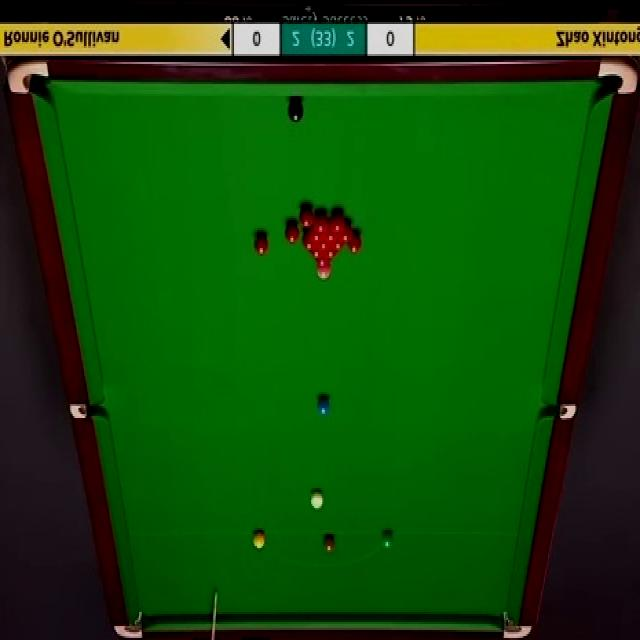black-ball: (288, 98, 304, 126)
blue-ball: (316, 393, 330, 418)
brown-ball: (322, 534, 334, 552)
green-ball: (382, 530, 393, 550)
pink-ball: (317, 267, 332, 279)
red-ball: (252, 230, 270, 255), (283, 219, 300, 245), (298, 203, 314, 228), (339, 221, 355, 243), (308, 223, 324, 244), (348, 230, 362, 254), (331, 213, 347, 234), (324, 223, 339, 243), (314, 210, 327, 233), (322, 246, 340, 258), (302, 239, 316, 251), (316, 258, 332, 268), (315, 241, 330, 251), (331, 241, 345, 250), (309, 250, 324, 258)
white-ball: (308, 489, 326, 511)
yellow-ball: (252, 530, 267, 551)
